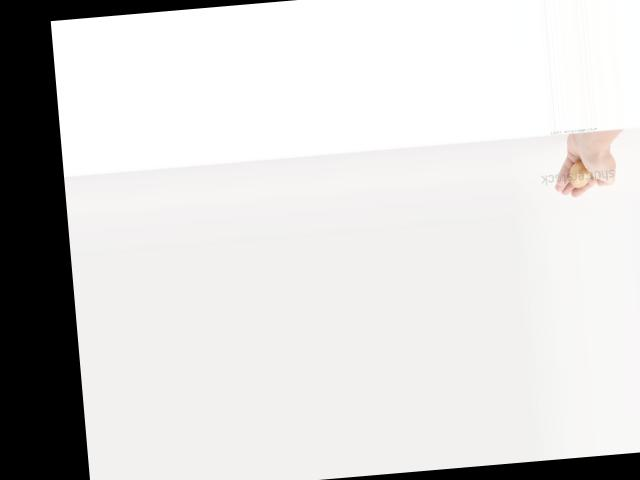egg: (567, 160, 591, 187)
